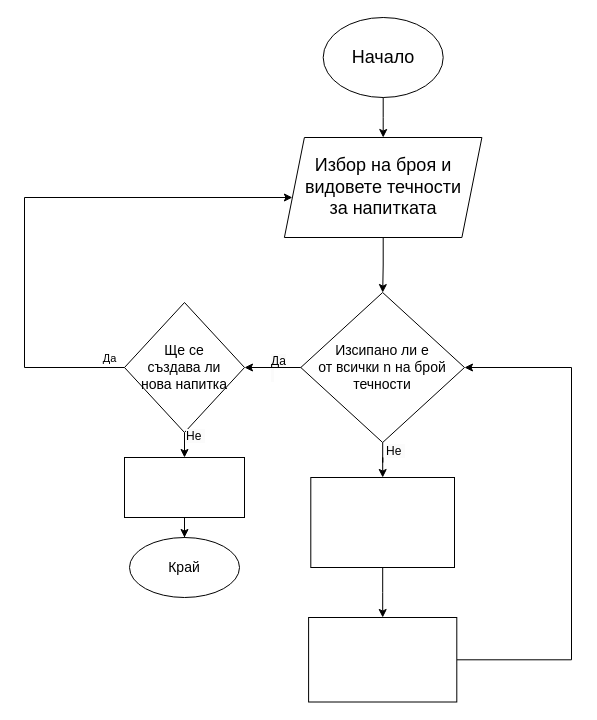
Image size: 597x720. Some labels were removed from this diagram. The shapes that lost their labels are listed below. From the top down, each one's box as (x1, y1, x2, y2) in pixels, then its label:
(124, 456, 244, 518): Известие, че напитката е готова
(310, 476, 454, 568): Придвижване на съда до необходимата позиция (под съответната течност)
(308, 616, 457, 702): Задействане на механизъм за сипване
